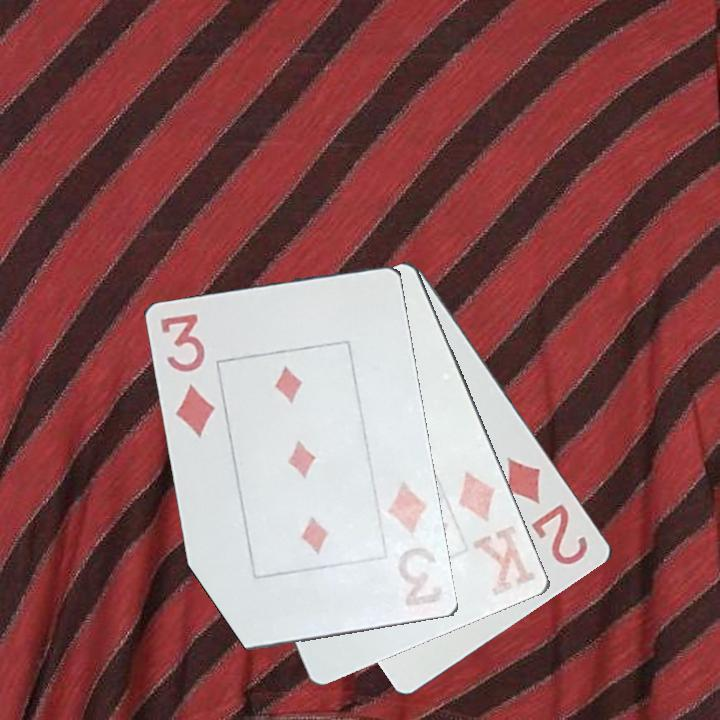2d: (503, 453, 594, 568)
3d: (378, 478, 446, 615), (157, 310, 219, 441)
Kd: (454, 468, 539, 599)
